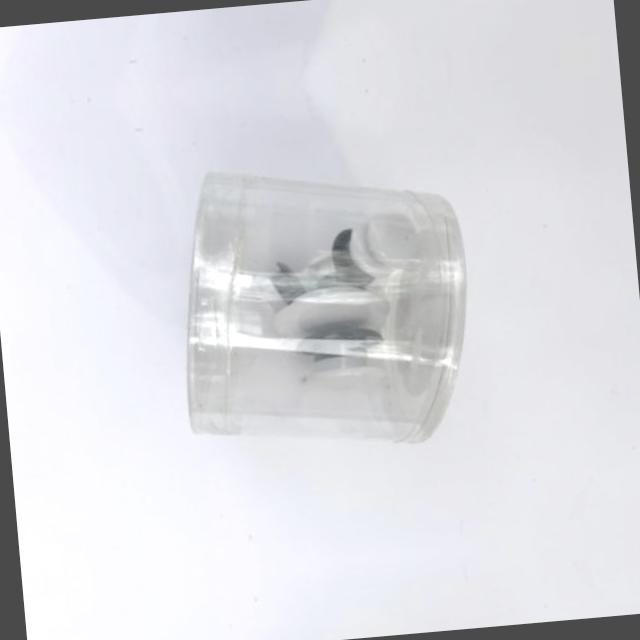Plastic: (154, 141, 493, 512), (194, 605, 505, 640), (140, 0, 449, 17)
